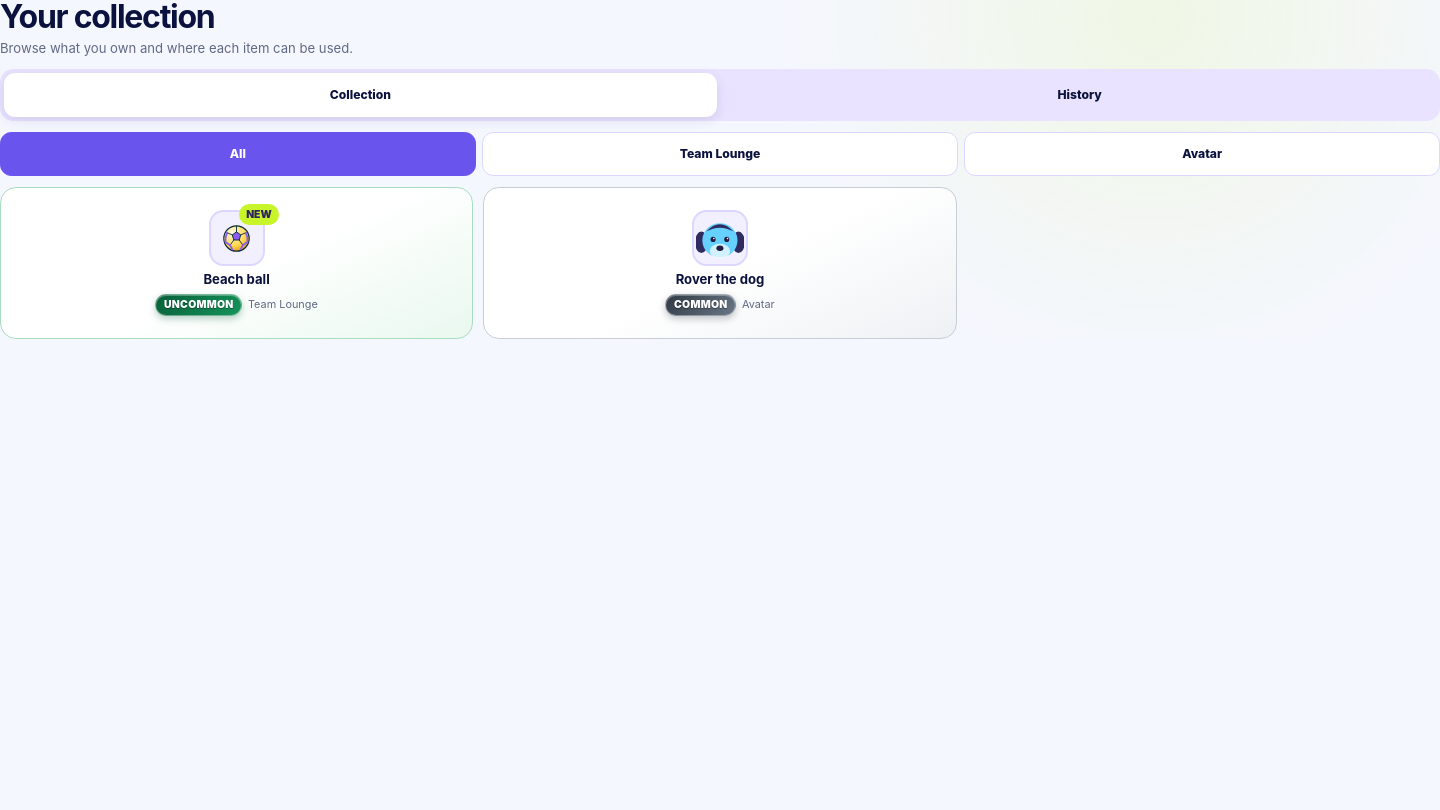
PrizeCollection › filters owned prizes and switches to chronological history
Click the button "Avatar" at (1202, 154), box [964, 132, 1439, 176]
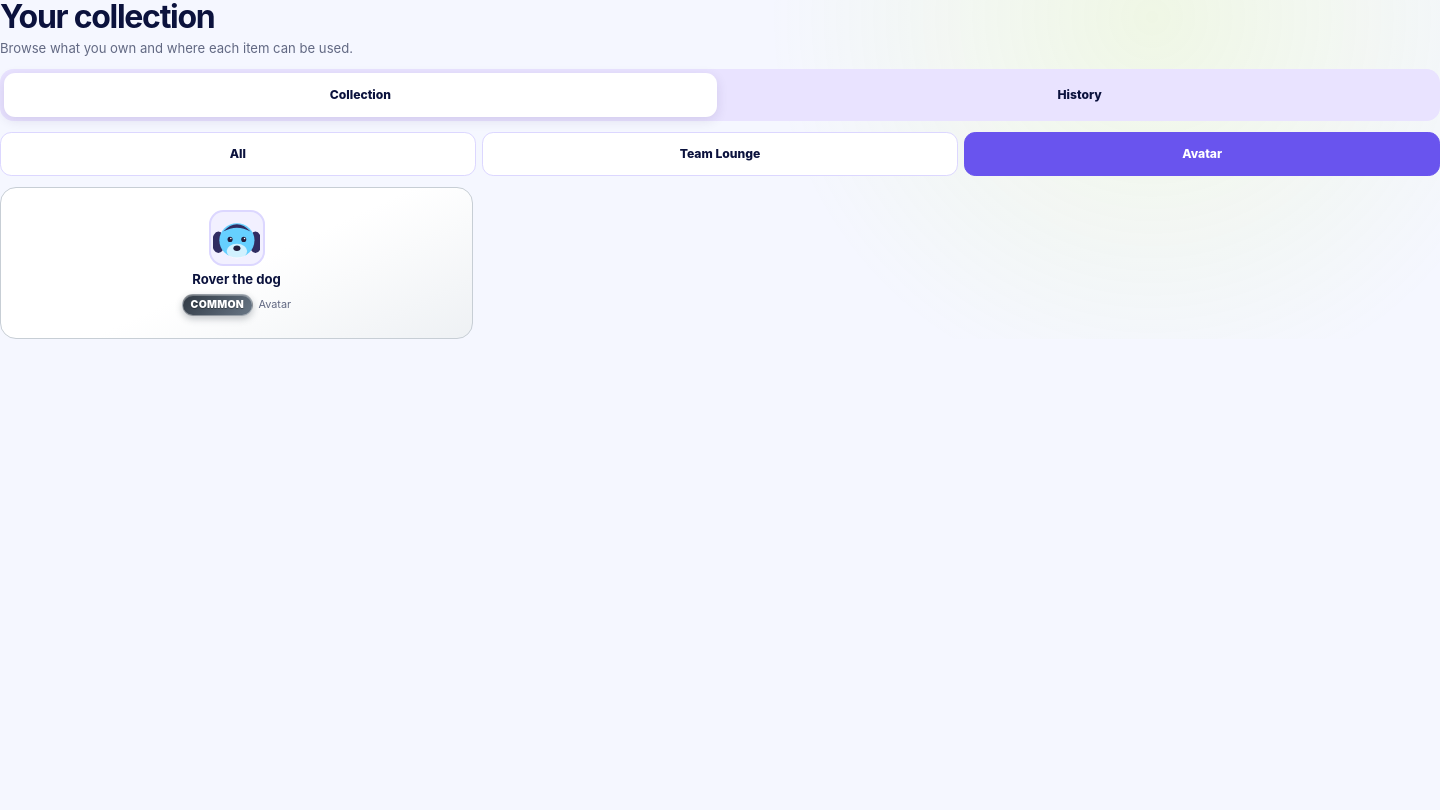
Expected: the text "Rover the dog" is shown, [192, 272, 281, 288]
Now the button "Beach ball" is gone
Click the button with aria-label "View Rover the dog" at (237, 263), box [0, 187, 473, 339]
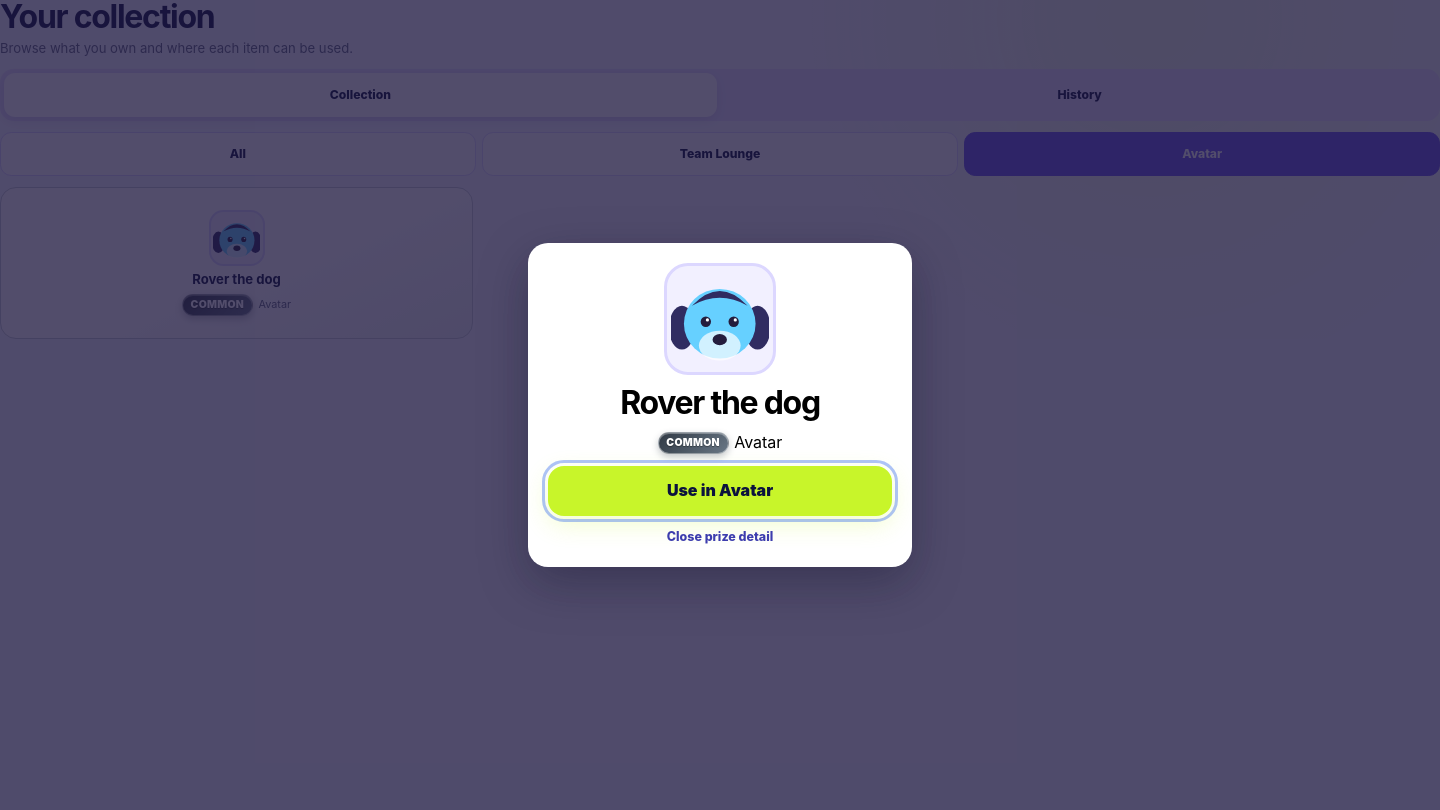
Expected: the text "From 3-day plan box" is not shown
Click the button "Close prize detail" at (720, 537), box [548, 527, 892, 548]
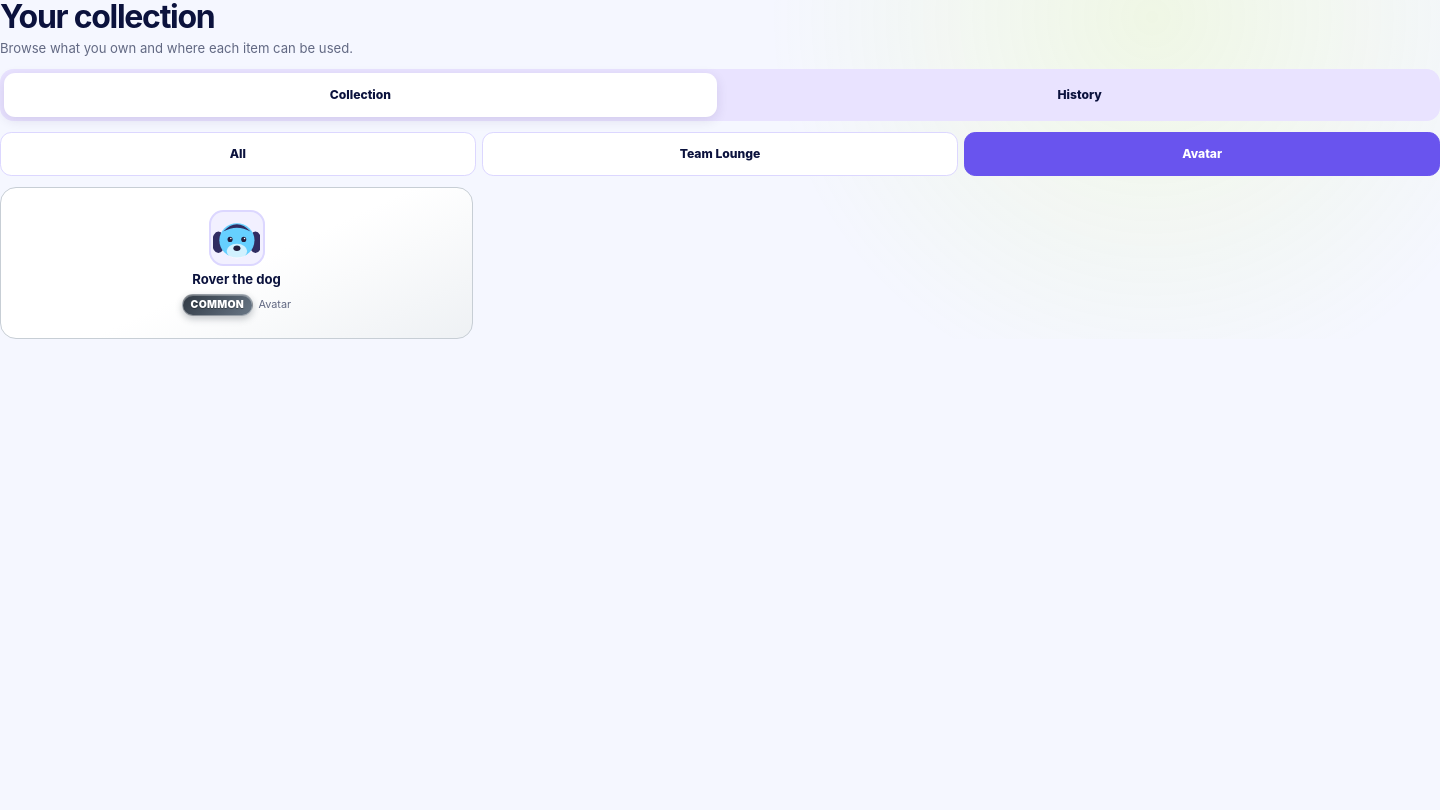
Click the button "History" at (1080, 95), box [723, 73, 1436, 117]
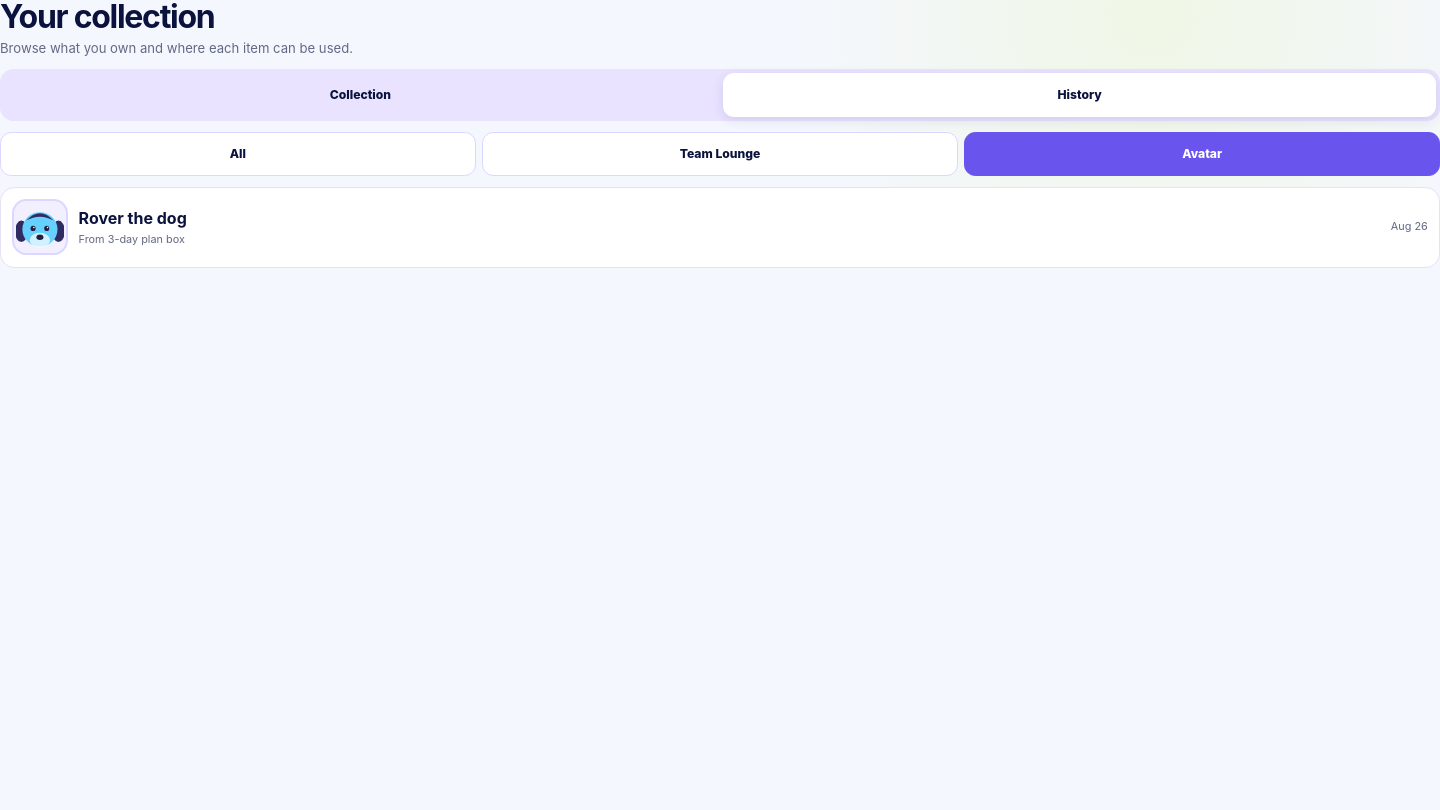
Now the text "From 3-day plan box" is shown, box [79, 232, 185, 246]
